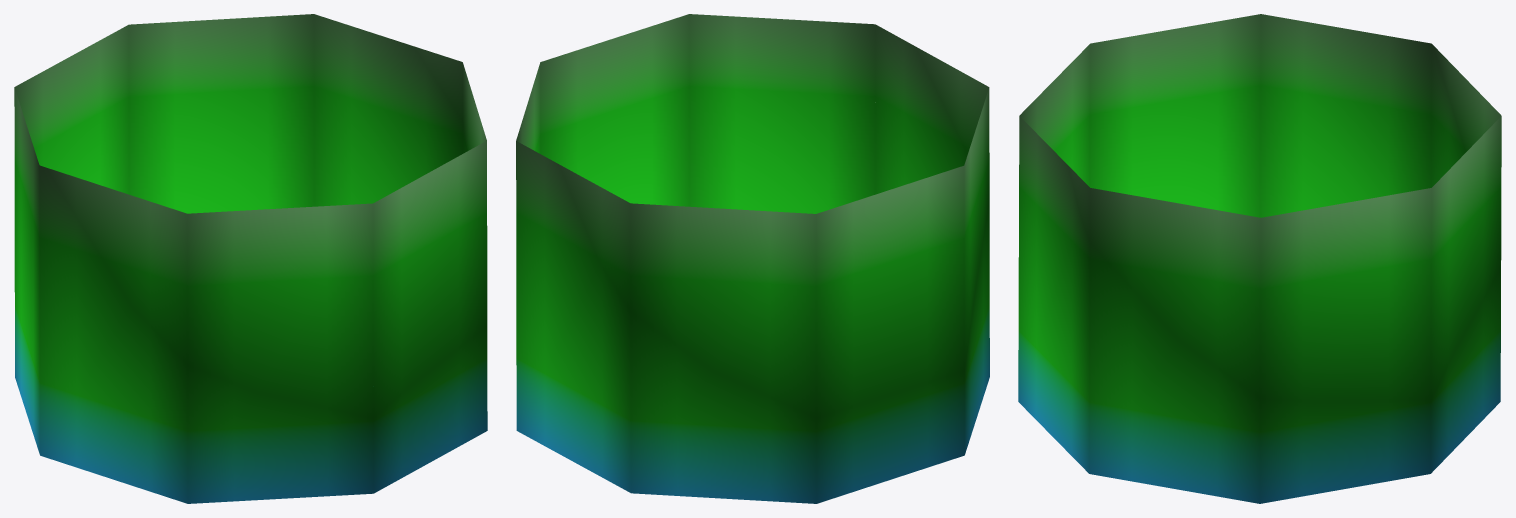
The picture shows the model from 3 angles, left to right: view 1: azimuth 30°, elevation 25°; view 2: azimuth 150°, elevation 25°; view 3: azimuth 270°, elevation 25°; orthographic projection.
Visible parts, largest first — view 1: T1L4M003_14; view 2: T1L4M003_14; view 3: T1L4M003_14.
Boxes of the visible parts, box(x1,y1,x2,y2) form: T1L4M003_14: box(14, 14, 487, 503); T1L4M003_14: box(516, 14, 989, 503); T1L4M003_14: box(1018, 14, 1501, 503).
Bounding box in the file's own units: 0.458 × 0.2998 × 0.459.
